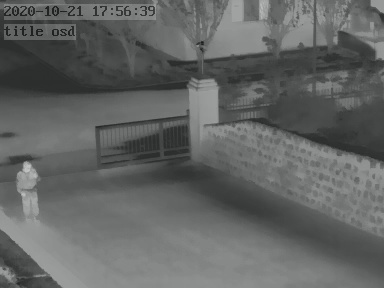person: (15, 156, 42, 220)
